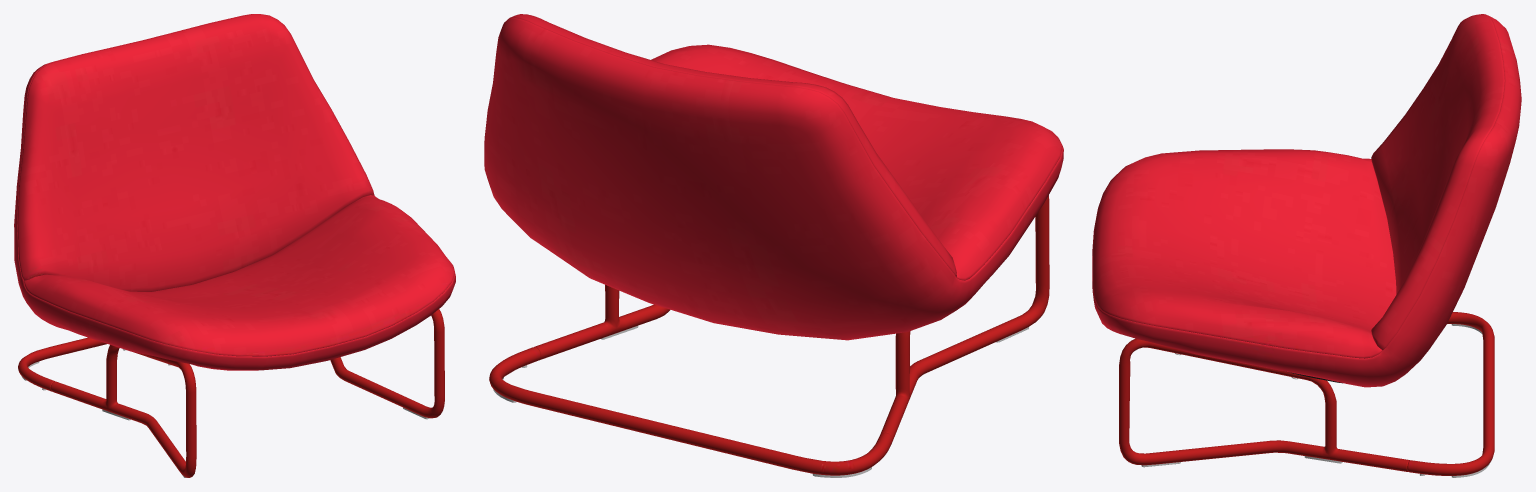
File: sotenas_fotel_10581913.glb
The picture shows the model from 3 angles, left to right: view 1: azimuth 30°, elevation 25°; view 2: azimuth 150°, elevation 25°; view 3: azimuth 270°, elevation 25°; orthographic projection. The views are drawn at different scales.
Parts seen in each view (by area): view 1: sotenas_fotel_10581913; view 2: sotenas_fotel_10581913; view 3: sotenas_fotel_10581913.
Boxes of the visible parts, left/top/right/bottom form: sotenas_fotel_10581913: left=14, top=14, right=455, bottom=477; sotenas_fotel_10581913: left=484, top=14, right=1063, bottom=477; sotenas_fotel_10581913: left=1092, top=14, right=1521, bottom=477.
Size of the model in its own units: 0.8599 by 0.68 by 0.81.
Materials: 1 (1 with a texture image).
